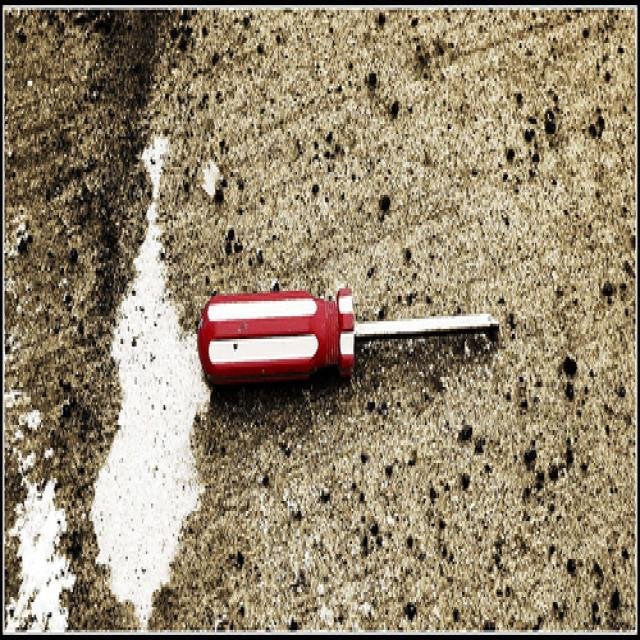screwdriver: (178, 262, 508, 421)
